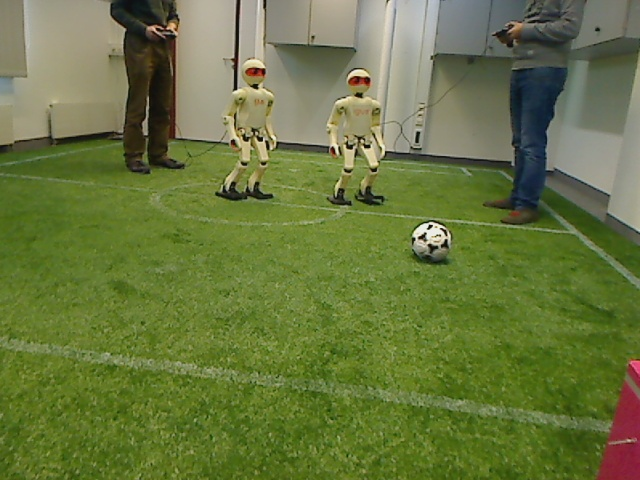ball: (407, 219, 456, 267)
robot: (217, 57, 278, 201), (326, 67, 387, 206)
